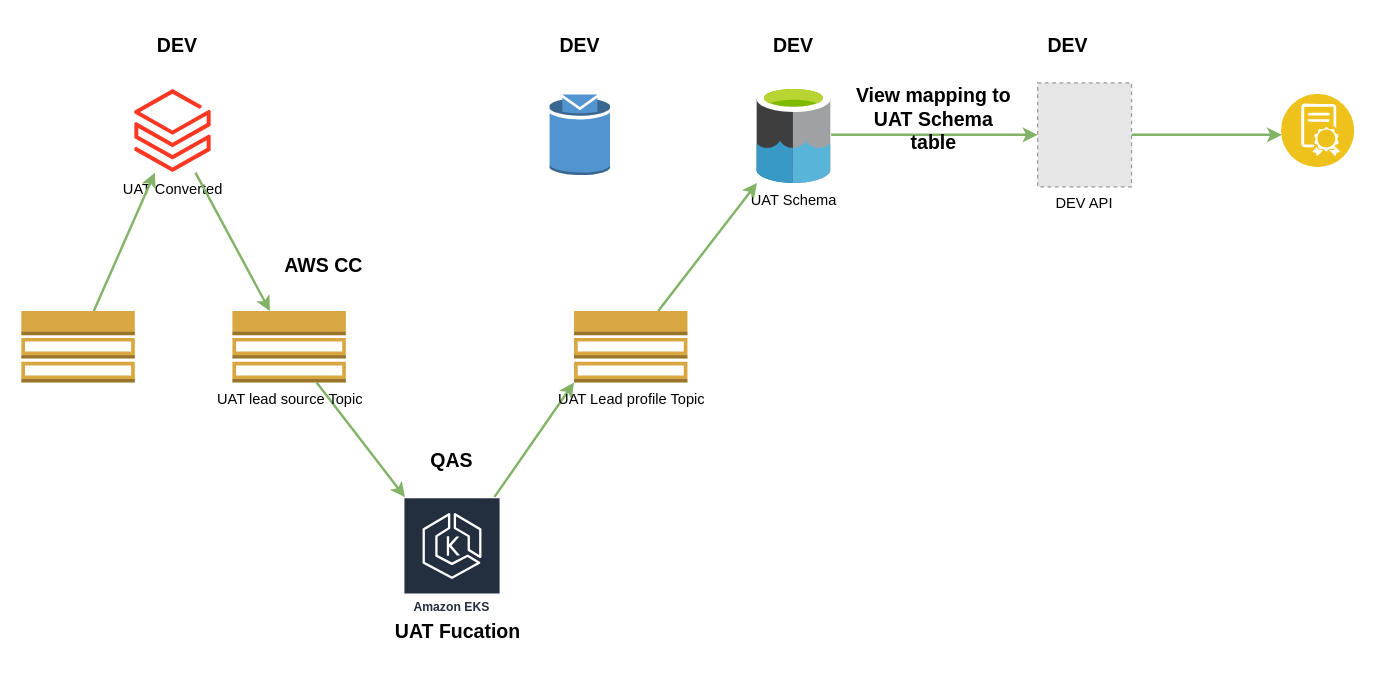
Image size: 1376x676. Some labels were removed from this diagram. Grey dashed boxes stand in for pictures. The shapes that lost their labels are listed below. From the top down, each one's box as (x1, y1, x2, y2) in pixels, then its label:
(548, 93, 610, 175): DEV Topic
(1281, 94, 1354, 167): SMART
(20, 310, 135, 382): UAT CDC Topic
